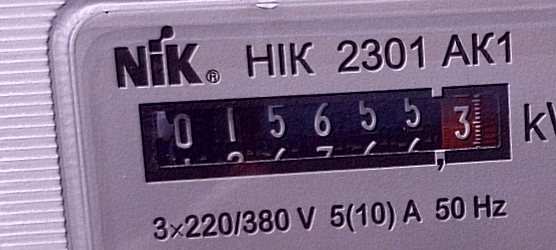0: (168, 110, 196, 152)
1: (220, 106, 241, 146)
3: (450, 104, 472, 141)
5: (262, 104, 289, 141), (355, 100, 380, 133), (402, 97, 423, 130)
6: (309, 102, 334, 139)
screen: (123, 64, 527, 200)
